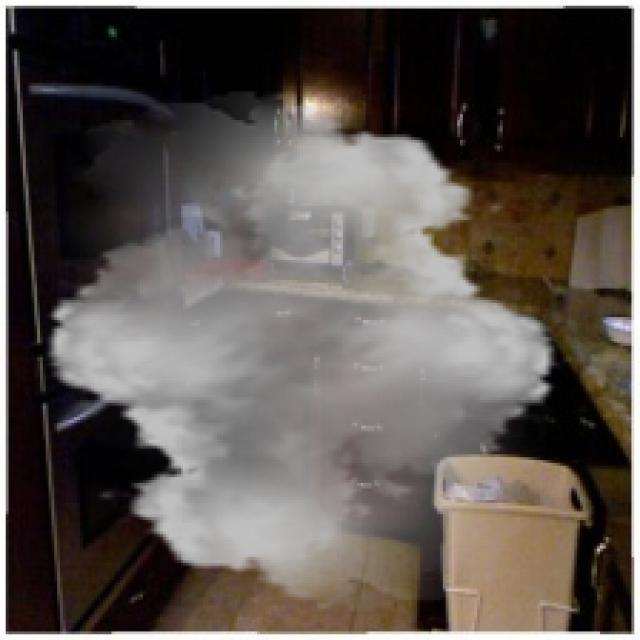Smoke: (25, 91, 578, 612)
